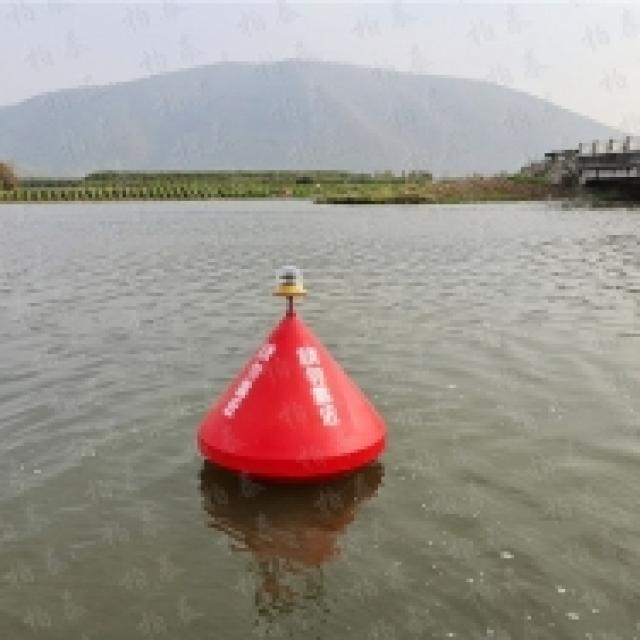buoy: (193, 263, 392, 478)
